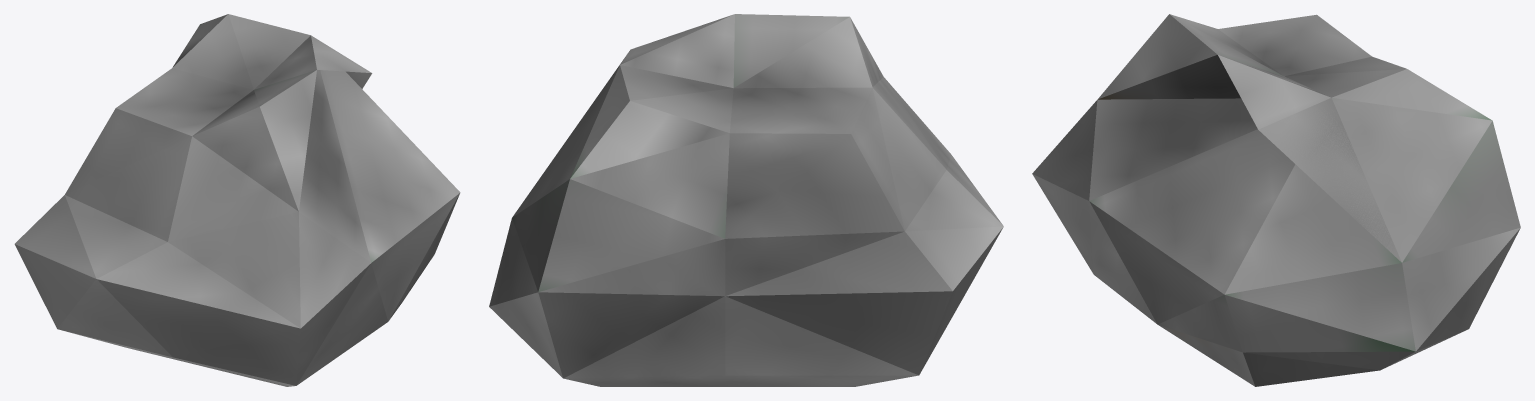
Rendered from GJ_Decor_Exterior_Rock_02.fbx.
The picture shows the model from 3 angles, left to right: view 1: azimuth 30°, elevation 25°; view 2: azimuth 150°, elevation 25°; view 3: azimuth 270°, elevation 25°; orthographic projection. The views are drawn at different scales.
Parts seen in each view (by area): view 1: GJ_Decor_Exterior_Rock_02; view 2: GJ_Decor_Exterior_Rock_02; view 3: GJ_Decor_Exterior_Rock_02.
Part boxes in pixels (x1,y1,x2,y2): GJ_Decor_Exterior_Rock_02: (14, 14, 460, 386); GJ_Decor_Exterior_Rock_02: (489, 14, 1003, 386); GJ_Decor_Exterior_Rock_02: (1032, 14, 1520, 386).
Bounding box in the file's own units: 1.27 × 0.8329 × 1.32.
Materials: 1 (1 with a texture image).
